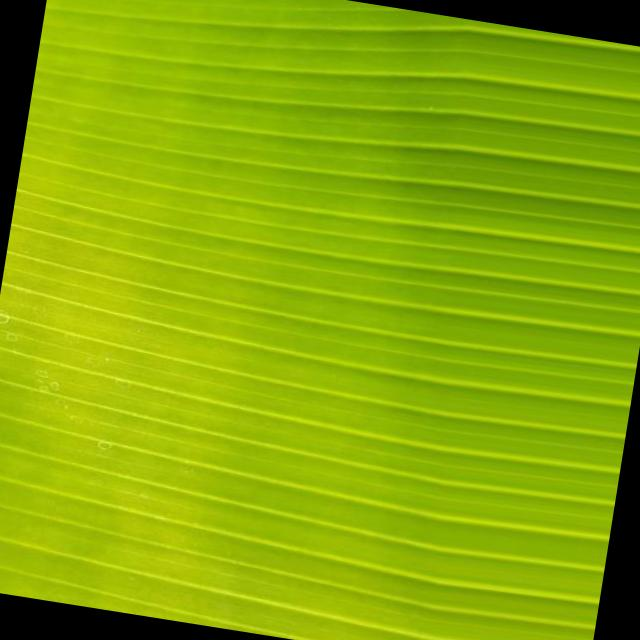Banana_Healthy: (105, 66, 553, 542)
